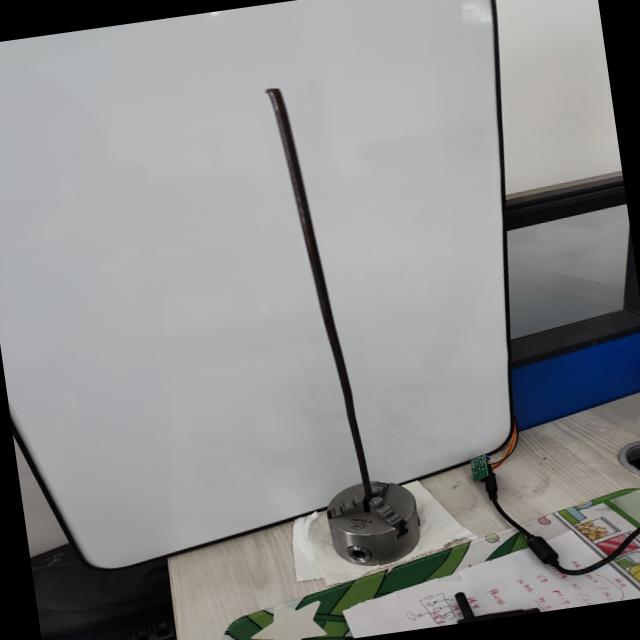plain round bar: (252, 78, 386, 500)
